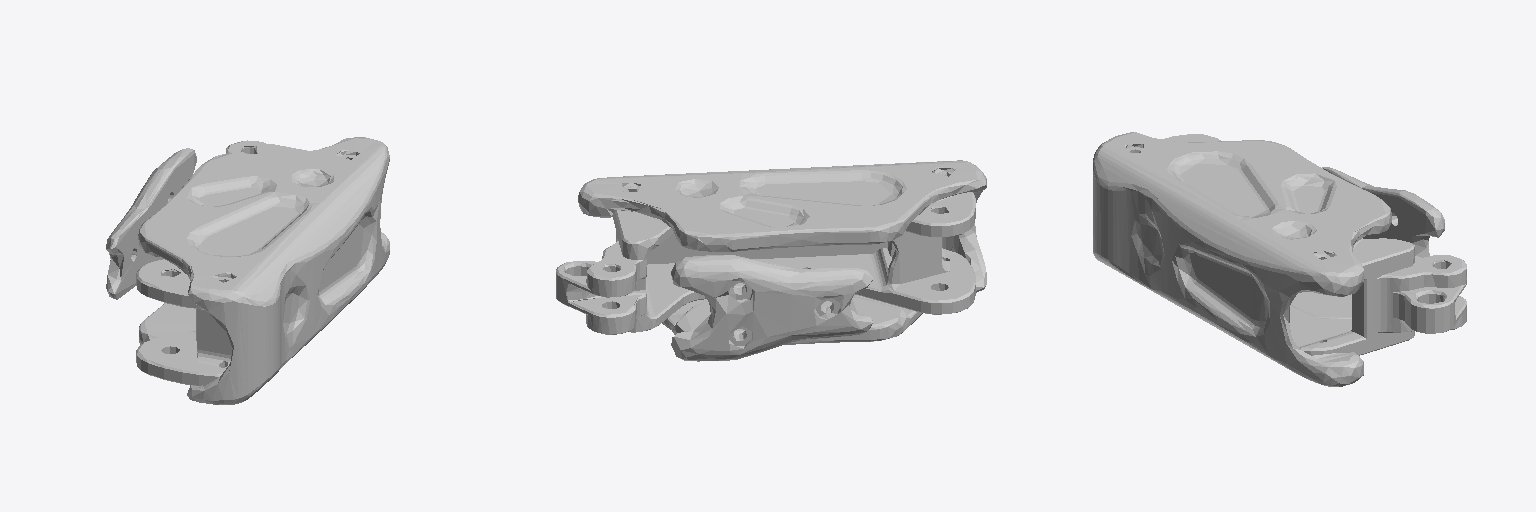
The model's file is L_thumb_proximal.obj.
3 renders of one model, left to right at view 1: azimuth 30°, elevation 25°; view 2: azimuth 150°, elevation 25°; view 3: azimuth 270°, elevation 25°, orthographic.
Parts seen in each view (by area): view 1: L_thumb_proximal; view 2: L_thumb_proximal; view 3: L_thumb_proximal.
Part boxes in pixels (x1,y1,x2,y2): L_thumb_proximal: (106, 137, 389, 404); L_thumb_proximal: (556, 160, 986, 361); L_thumb_proximal: (1093, 132, 1466, 386).
Size of the model in its own units: 0.0581 by 0.02 by 0.0594.